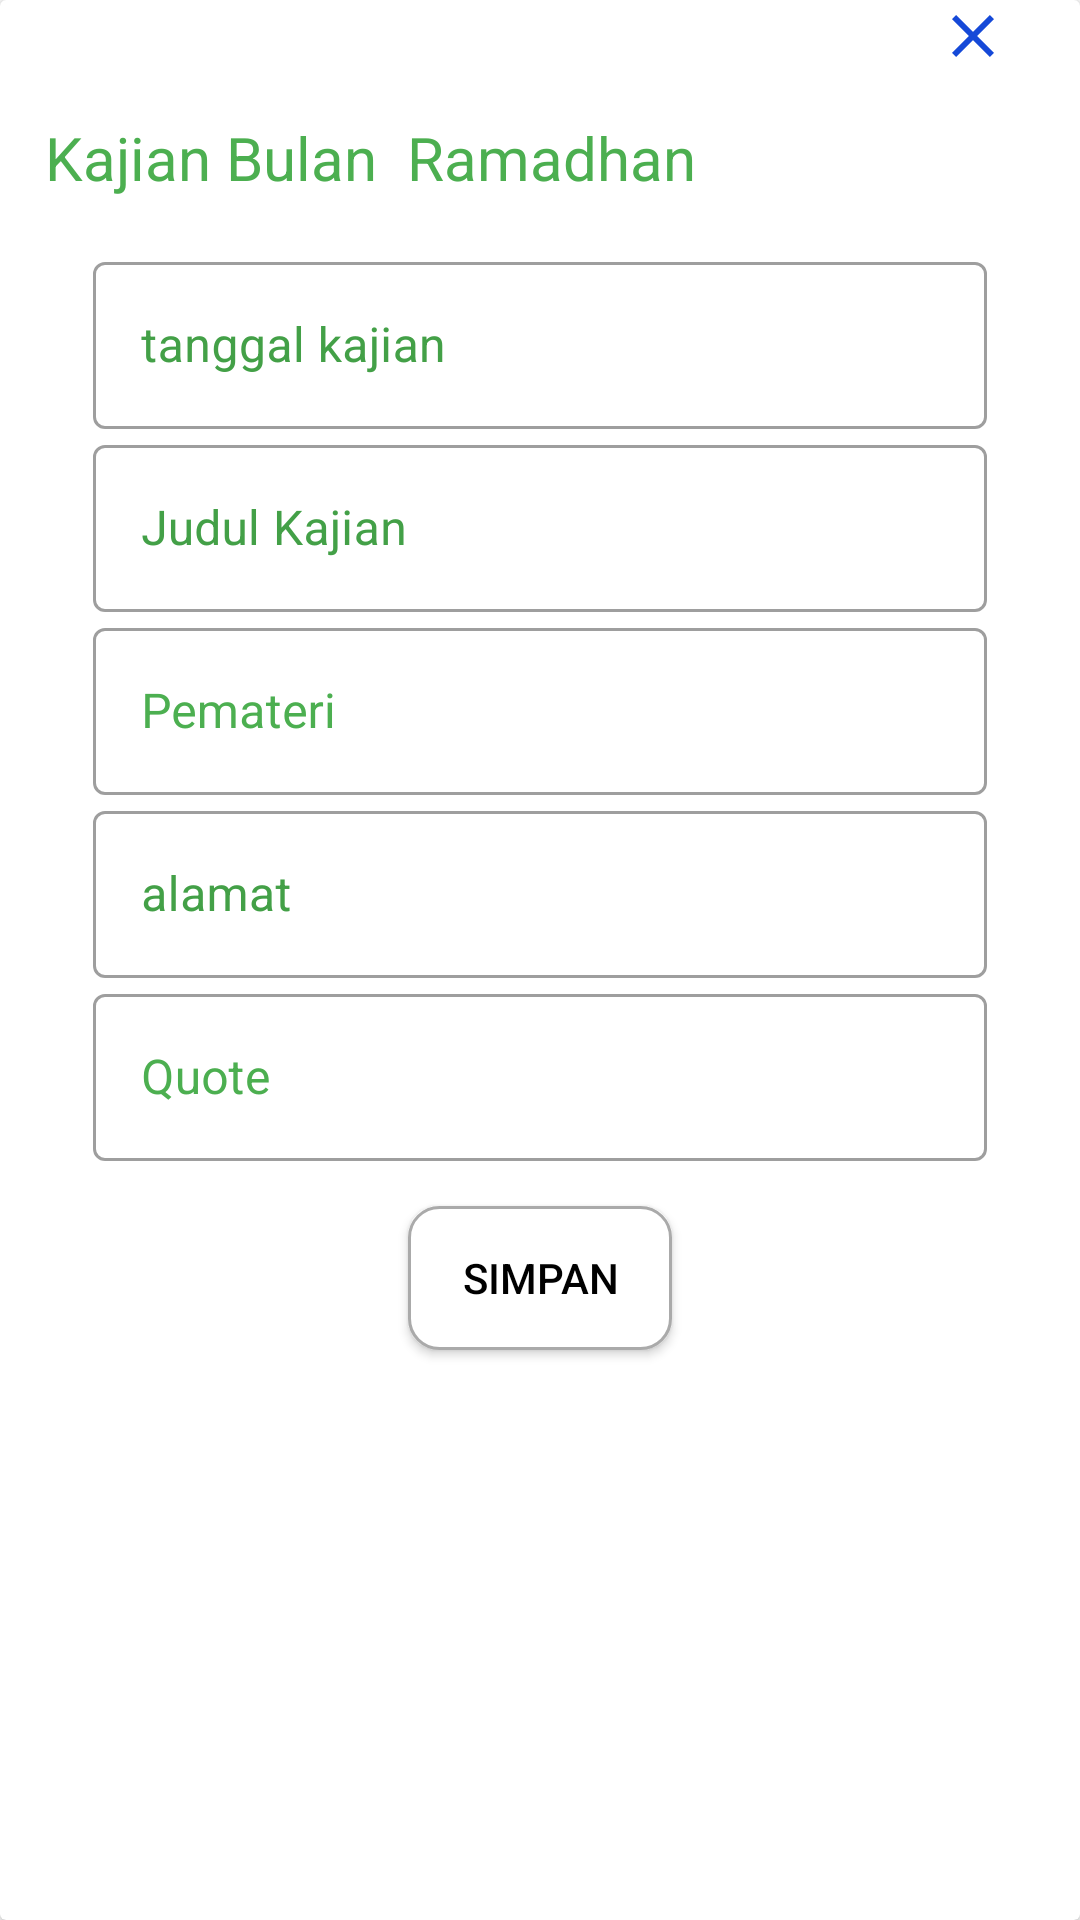

Icon bounding boxes for this 1080px x 1920px phone screenshot, format [left=x1, top=y1, right=x2, bottom=y2]:
close: [left=952, top=15, right=994, bottom=57]
